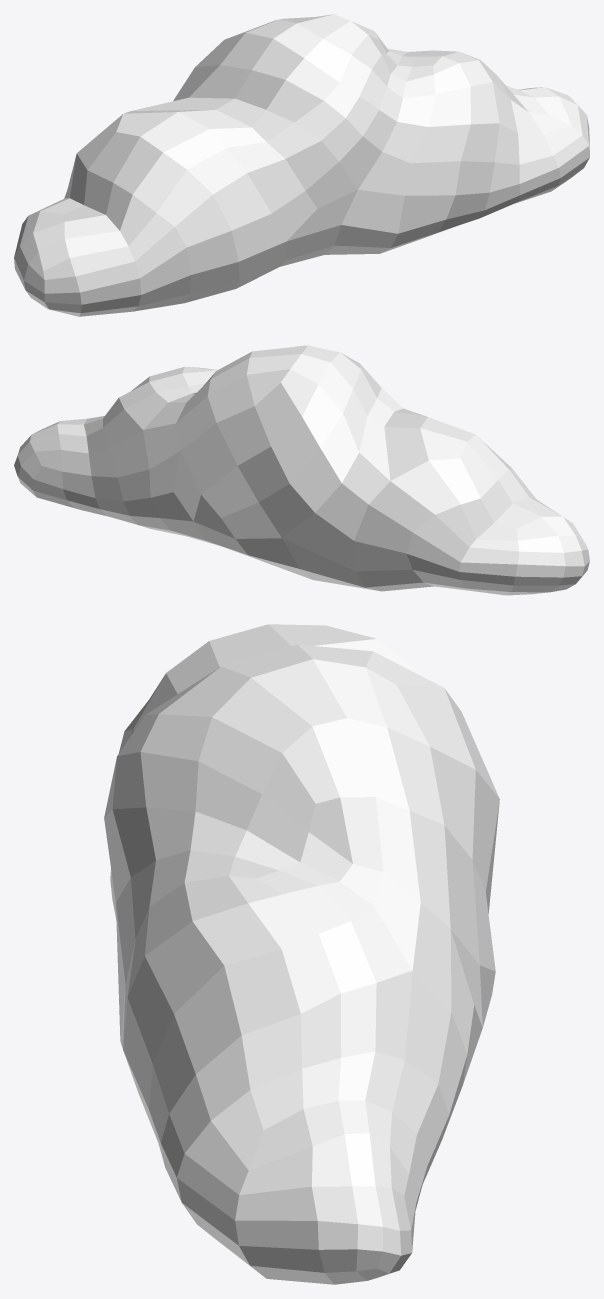
The model's file is cloud.obj.
3 views of the same model, one above another, from view 1: azimuth 30°, elevation 25°; view 2: azimuth 150°, elevation 25°; view 3: azimuth 270°, elevation 25° (orthographic). The views are drawn at different scales.
Visible parts, largest first — view 1: cloud; view 2: cloud; view 3: cloud.
Part boxes in pixels (<box>): cloud: <box>14,14,589,316</box>; cloud: <box>14,345,589,595</box>; cloud: <box>104,624,499,1284</box>.
Bounding box in the file's own units: 5.82 × 2.1 × 1.85.
1 material, 1 textured.
